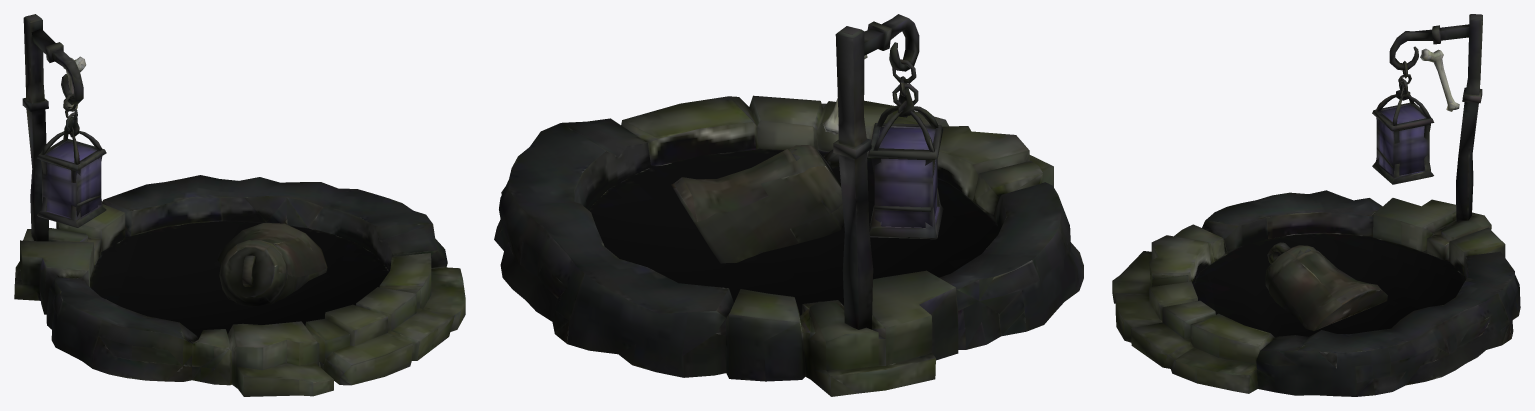
The model's file is prop_node_black_water_pool.glb.
3 renders of one model, left to right at view 1: azimuth 30°, elevation 25°; view 2: azimuth 150°, elevation 25°; view 3: azimuth 270°, elevation 25°, orthographic. The views are drawn at different scales.
Parts seen in each view (by area): view 1: tripo_node_eed3d6c6-1ccf-4a6c-be02-7e488c46f875; view 2: tripo_node_eed3d6c6-1ccf-4a6c-be02-7e488c46f875; view 3: tripo_node_eed3d6c6-1ccf-4a6c-be02-7e488c46f875.
Part boxes in pixels (bbox=[...]): tripo_node_eed3d6c6-1ccf-4a6c-be02-7e488c46f875: bbox=[14, 14, 465, 396]; tripo_node_eed3d6c6-1ccf-4a6c-be02-7e488c46f875: bbox=[494, 14, 1083, 396]; tripo_node_eed3d6c6-1ccf-4a6c-be02-7e488c46f875: bbox=[1112, 14, 1520, 396].
Size of the model in its own units: 0.9825 by 0.7519 by 0.998.
1 material, 1 textured.
